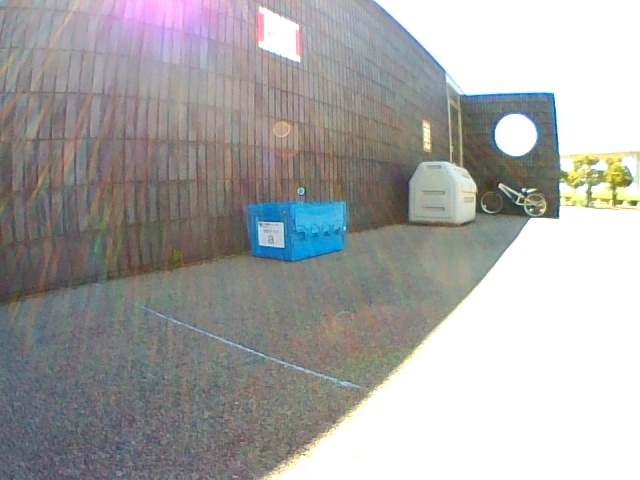blue_box: (246, 202, 346, 262)
tag_a: (260, 223, 283, 246)
